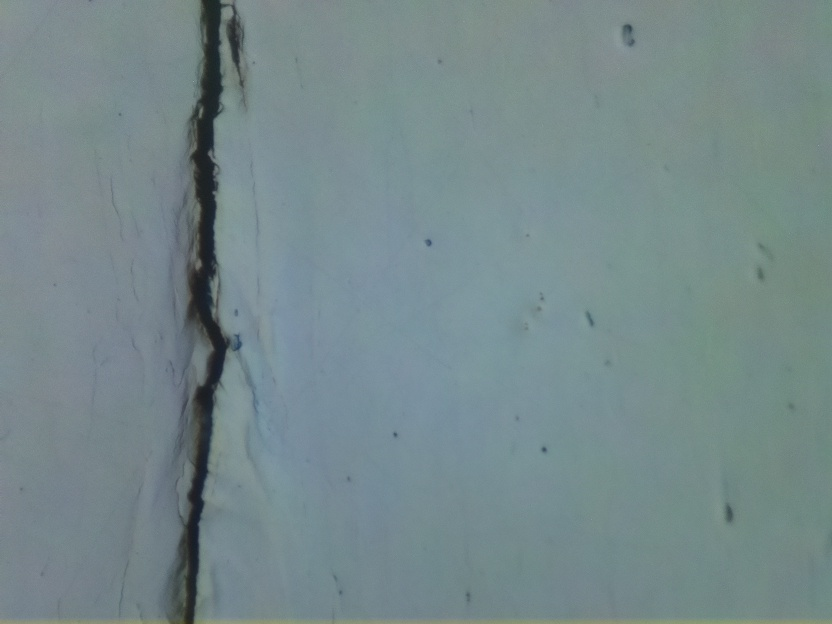crack: (175, 1, 244, 624)
